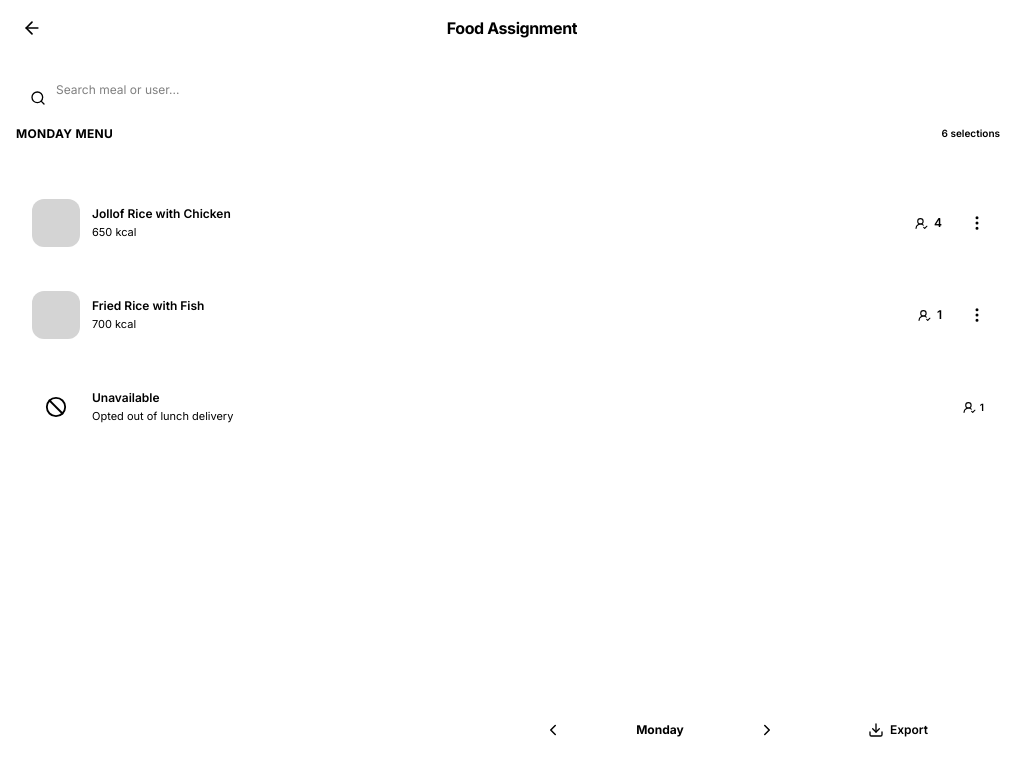
Test case: SelectionActivity (Food Assignment) › renders Unavailable selections card with count and expands recipients
Expected: the text "Opted out of lunch delivery" is shown, [92, 409, 233, 423]
Step 1. Click the heading "Unavailable" → (126,397), box [92, 390, 160, 404]
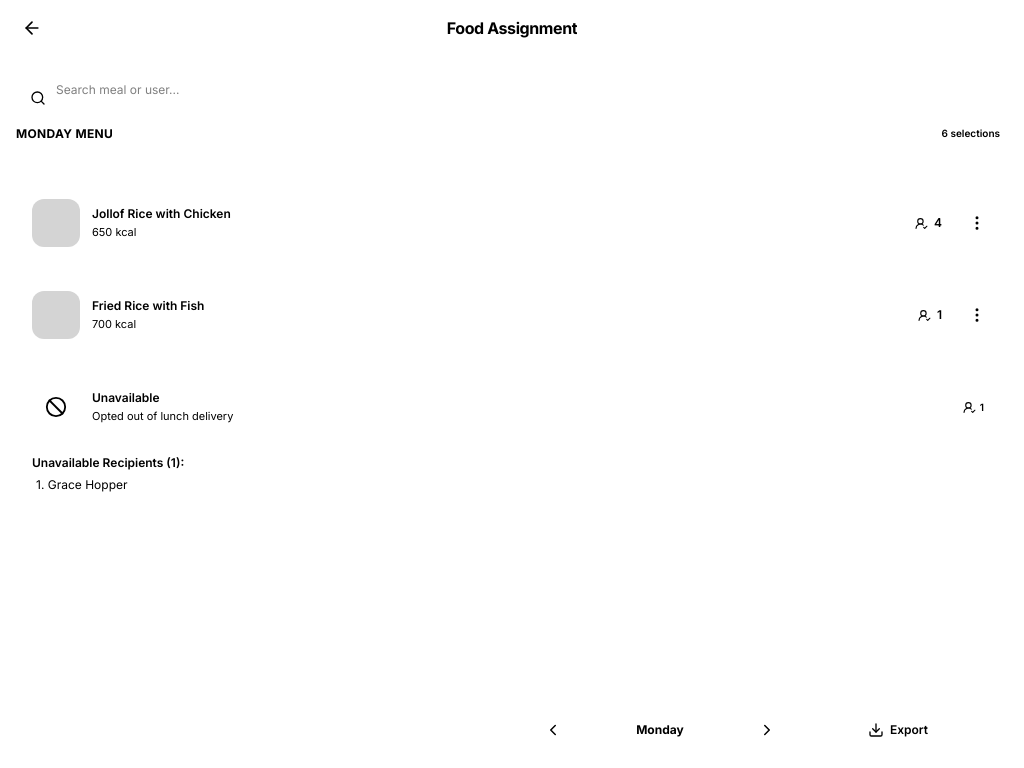
Expected: the text "Unavailable Recipients (1):" is shown, [32, 455, 184, 470]
Expected: the text "1. Grace Hopper" is shown, [36, 477, 128, 493]
